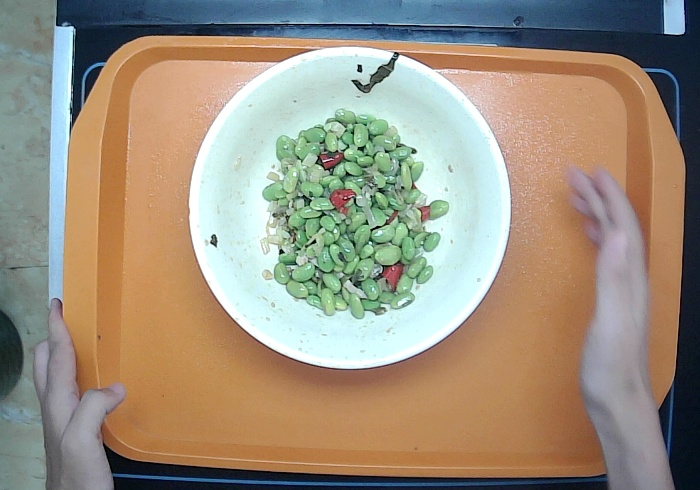ZNLD-Da_Tang_Wan: (178, 39, 518, 381)
